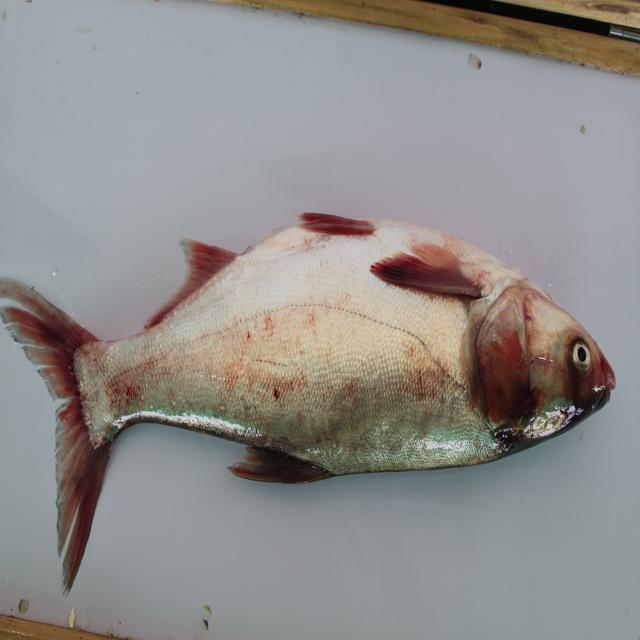SilverCarp: (2, 206, 618, 591)
